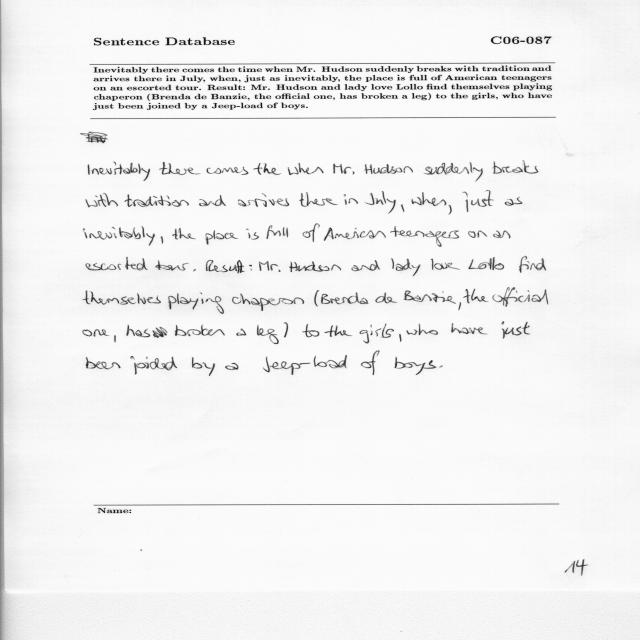word: (225, 355, 347, 375), (390, 226, 459, 247), (83, 226, 155, 246), (168, 292, 224, 314), (232, 294, 304, 311), (424, 162, 483, 182), (88, 162, 150, 181), (492, 287, 548, 307), (83, 291, 161, 305), (130, 356, 177, 375), (324, 227, 386, 241), (124, 194, 189, 207), (86, 257, 148, 270), (395, 357, 437, 375), (238, 193, 289, 207), (365, 191, 396, 214), (359, 324, 394, 344), (403, 291, 456, 304), (463, 190, 494, 212), (493, 160, 539, 174), (321, 292, 369, 304), (127, 324, 168, 338), (289, 261, 341, 272), (300, 192, 338, 207), (175, 325, 225, 336), (159, 162, 201, 175), (391, 258, 421, 276), (206, 260, 244, 273), (501, 322, 530, 339), (364, 164, 413, 174), (412, 192, 447, 206), (361, 351, 380, 376), (469, 257, 505, 270), (205, 231, 238, 245), (519, 256, 546, 273), (86, 193, 118, 207), (288, 163, 324, 175), (86, 357, 121, 369), (257, 325, 279, 344), (451, 323, 488, 334), (463, 289, 489, 304), (155, 260, 189, 271), (406, 324, 438, 335), (431, 258, 460, 270), (207, 167, 249, 175), (325, 325, 353, 337), (302, 224, 320, 242), (351, 260, 380, 271), (81, 132, 108, 143), (199, 195, 226, 206), (267, 225, 288, 239), (172, 228, 196, 239), (259, 261, 281, 272), (375, 293, 397, 304), (302, 324, 320, 337), (334, 164, 355, 175), (264, 163, 282, 175), (83, 329, 109, 337), (202, 362, 215, 376), (343, 194, 358, 205), (505, 197, 523, 206), (468, 230, 487, 238), (493, 231, 511, 239), (246, 229, 259, 240), (192, 358, 202, 369), (254, 163, 263, 175), (314, 290, 319, 307), (237, 329, 247, 336), (284, 322, 288, 338), (448, 205, 452, 215), (458, 302, 461, 311), (401, 204, 404, 212), (160, 236, 163, 244), (399, 334, 402, 342), (114, 335, 116, 343), (249, 265, 252, 270), (439, 366, 443, 368), (193, 269, 196, 271)
